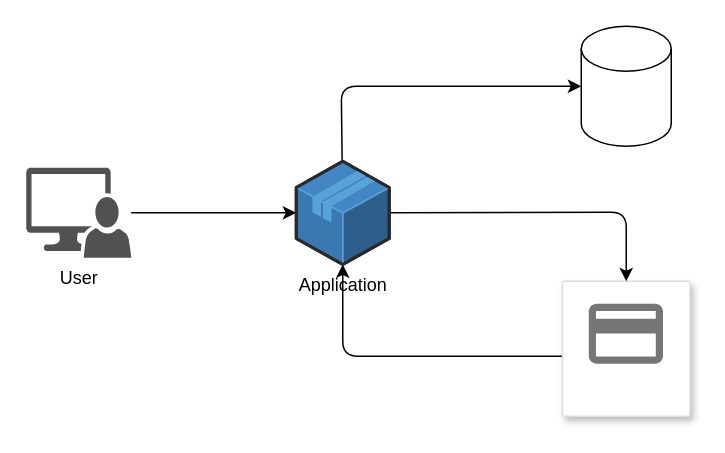
Image size: 725x453. Some labels were removed from this diagram. Each missing label, with the centre of its shape:
"Payment Provider" goes at (x=627, y=350).
"Postgres" goes at (x=625, y=85).
